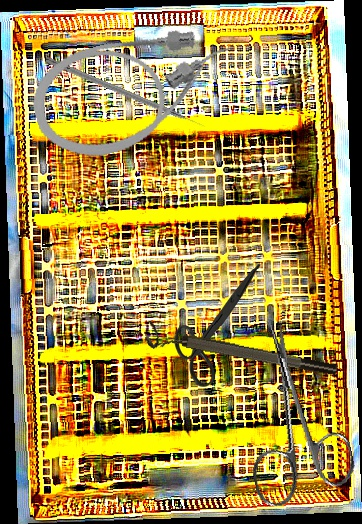Cannula: (22, 13, 248, 170)
Fixation Ring: (143, 321, 339, 387)
Hook Surgical: (44, 56, 206, 132)
Iris Scissors: (222, 309, 360, 510), (173, 262, 261, 389)
